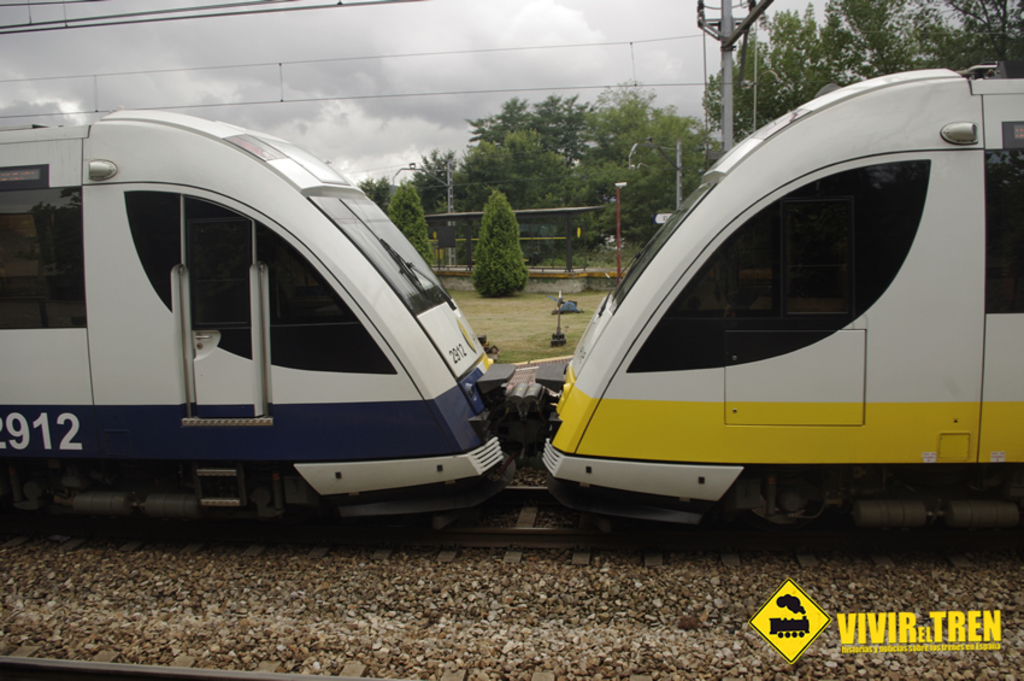Tree: (702, 0, 1022, 150), (402, 91, 578, 256), (575, 81, 710, 265), (352, 173, 390, 225)
